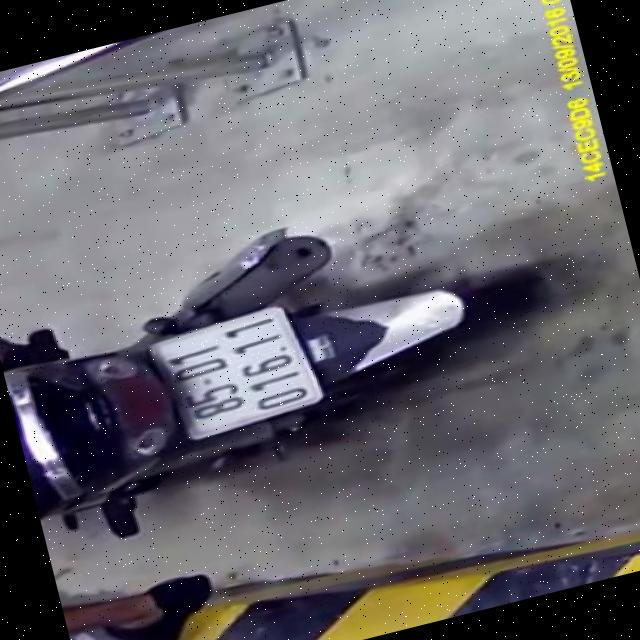license_plate: (160, 300, 324, 440)
